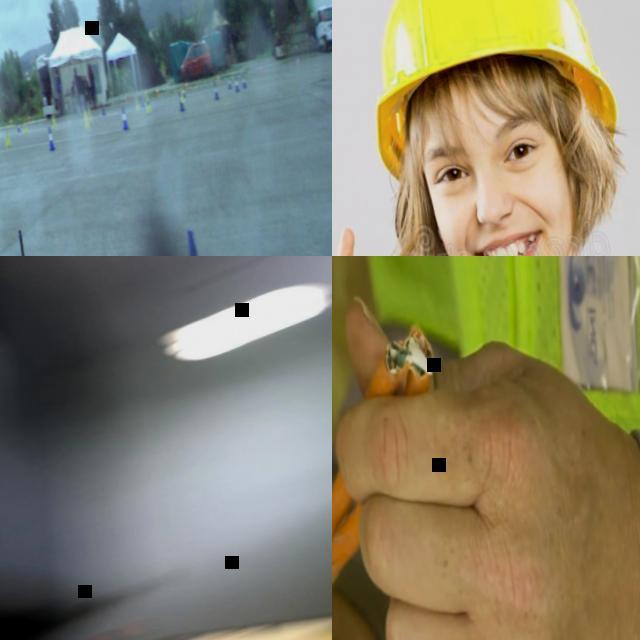helmet: (347, 0, 621, 174)
vest: (361, 256, 640, 471)
